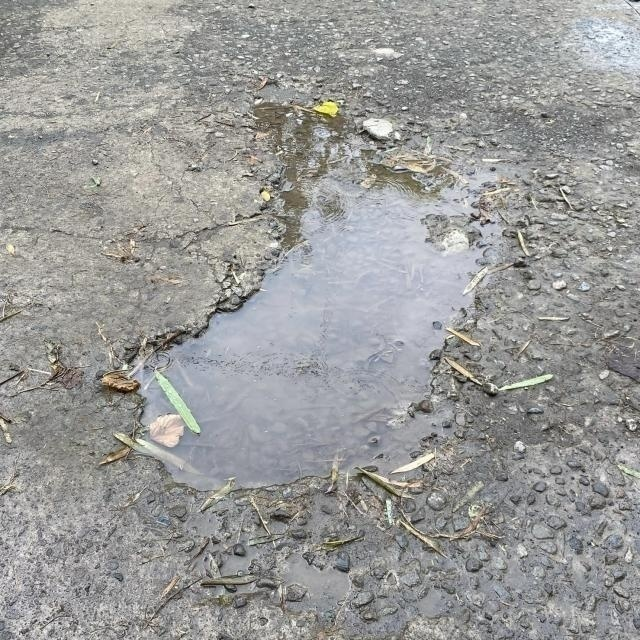pothole: (131, 121, 524, 558)
